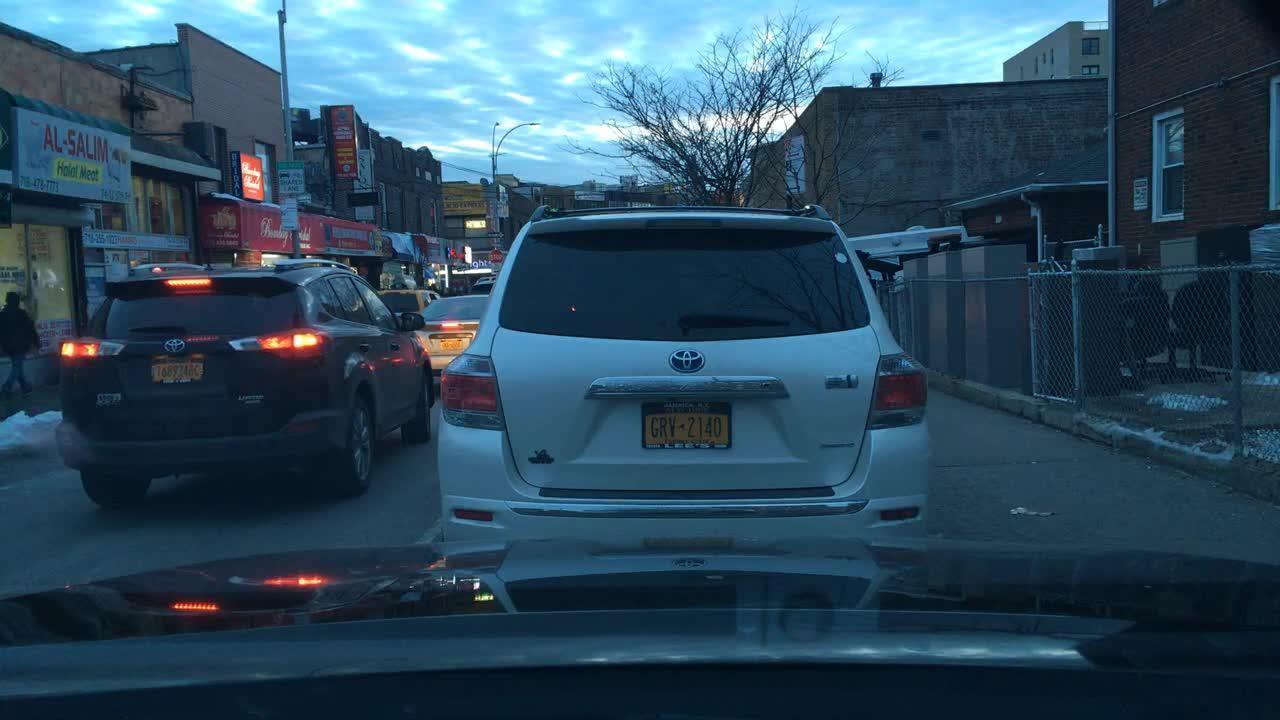Toyota: (660, 346, 711, 378), (152, 335, 189, 361)
